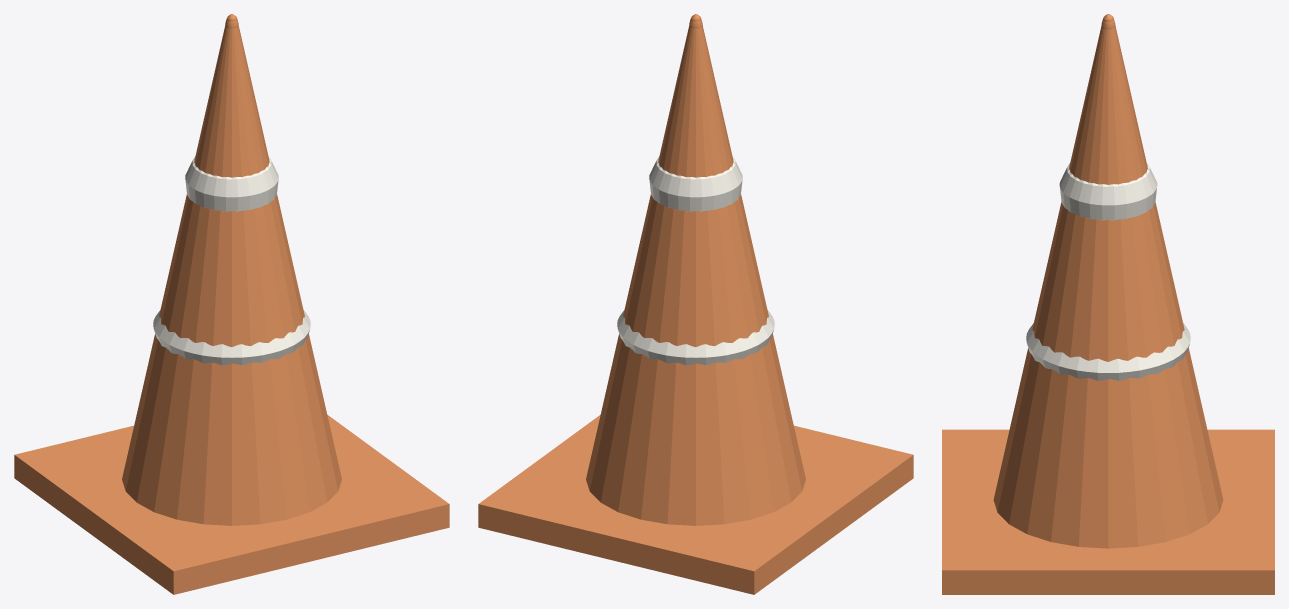
3 renders of one model, left to right at view 1: azimuth 30°, elevation 25°; view 2: azimuth 150°, elevation 25°; view 3: azimuth 270°, elevation 25°, orthographic. The views are drawn at different scales.
Visible parts, largest first — view 1: Prop_Cone; view 2: Prop_Cone; view 3: Prop_Cone.
Part boxes in pixels (x1=…): Prop_Cone: x1=14, y1=14, x2=449, y2=594; Prop_Cone: x1=478, y1=14, x2=913, y2=594; Prop_Cone: x1=942, y1=14, x2=1274, y2=594.
Bounding box in the file's own units: 0.55 × 0.931 × 0.55.
